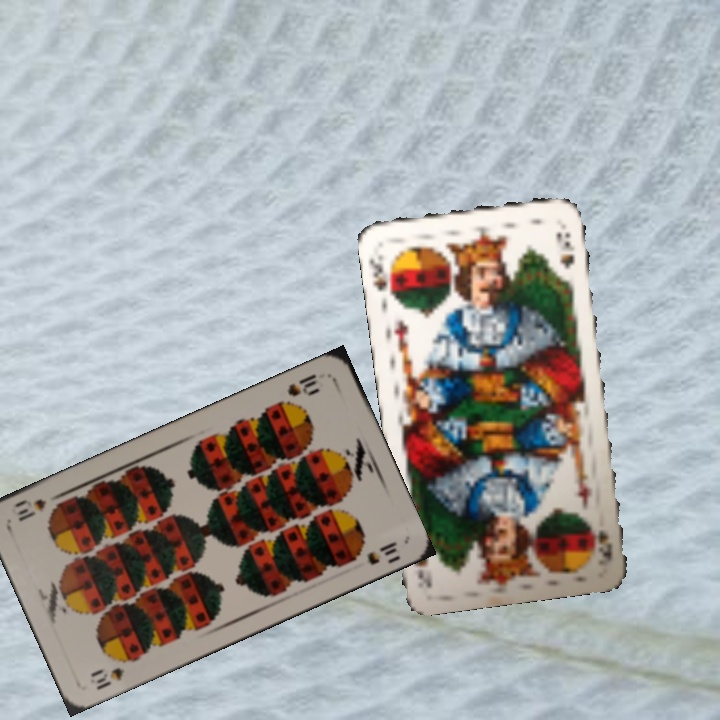S10: (86, 653, 137, 693), (283, 370, 322, 400)
SK: (366, 251, 399, 301), (593, 526, 616, 565)
